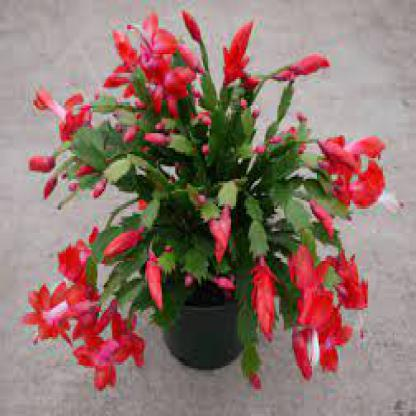Aglonema: (40, 98, 374, 362)
